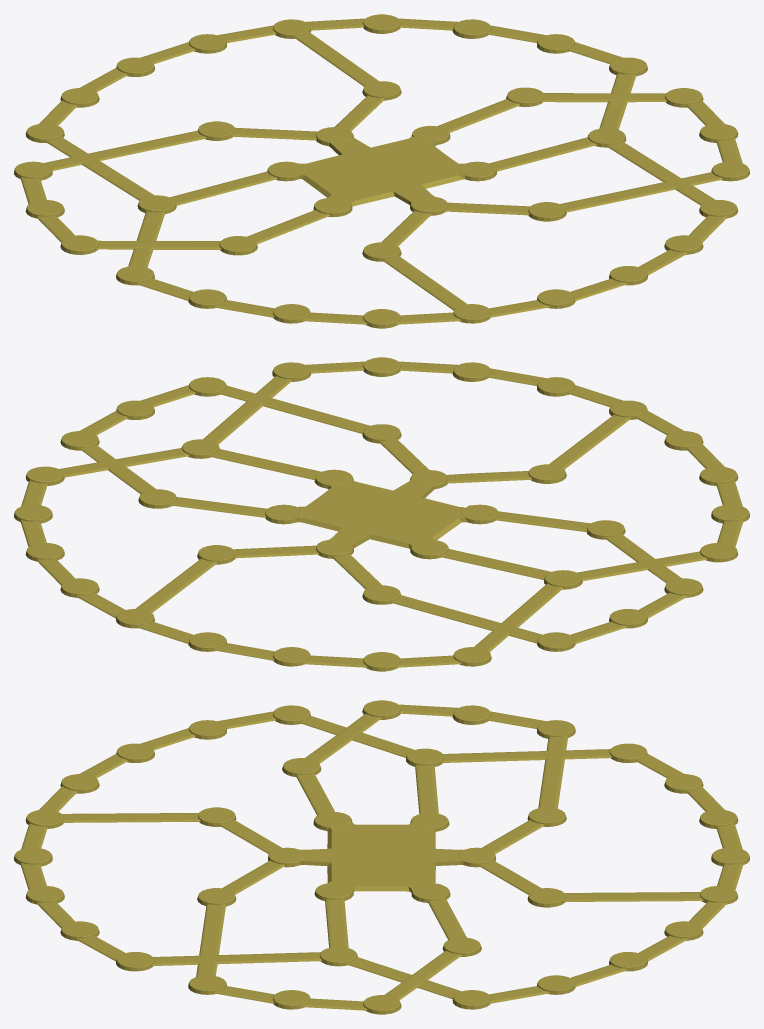
File: Environment_Arena_Track_16.fbx
3 views of the same model, one above another, from view 1: azimuth 30°, elevation 25°; view 2: azimuth 150°, elevation 25°; view 3: azimuth 270°, elevation 25° (orthographic).
Visible parts, largest first — view 1: Track; view 2: Track; view 3: Track.
Part boxes in pixels (<box>): Track: <box>14,14,749,328</box>; Track: <box>14,357,749,671</box>; Track: <box>14,700,749,1014</box>.
Bounding box in the file's own units: 46459 × 256 × 46459.
